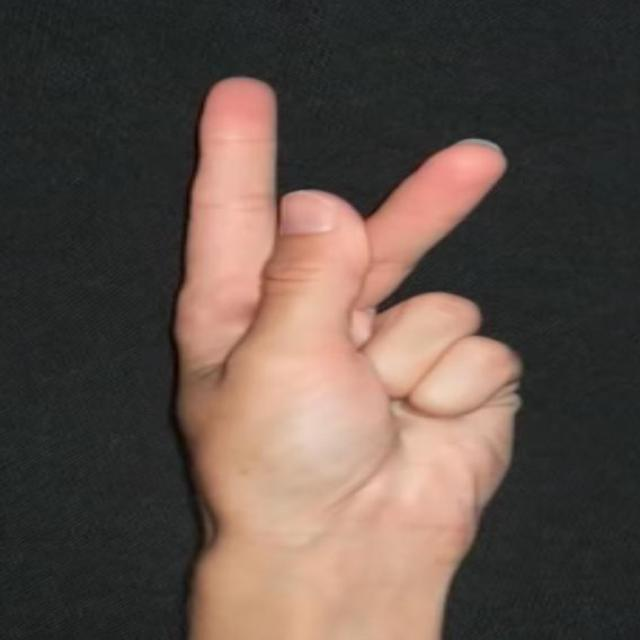K: (165, 68, 540, 531)
